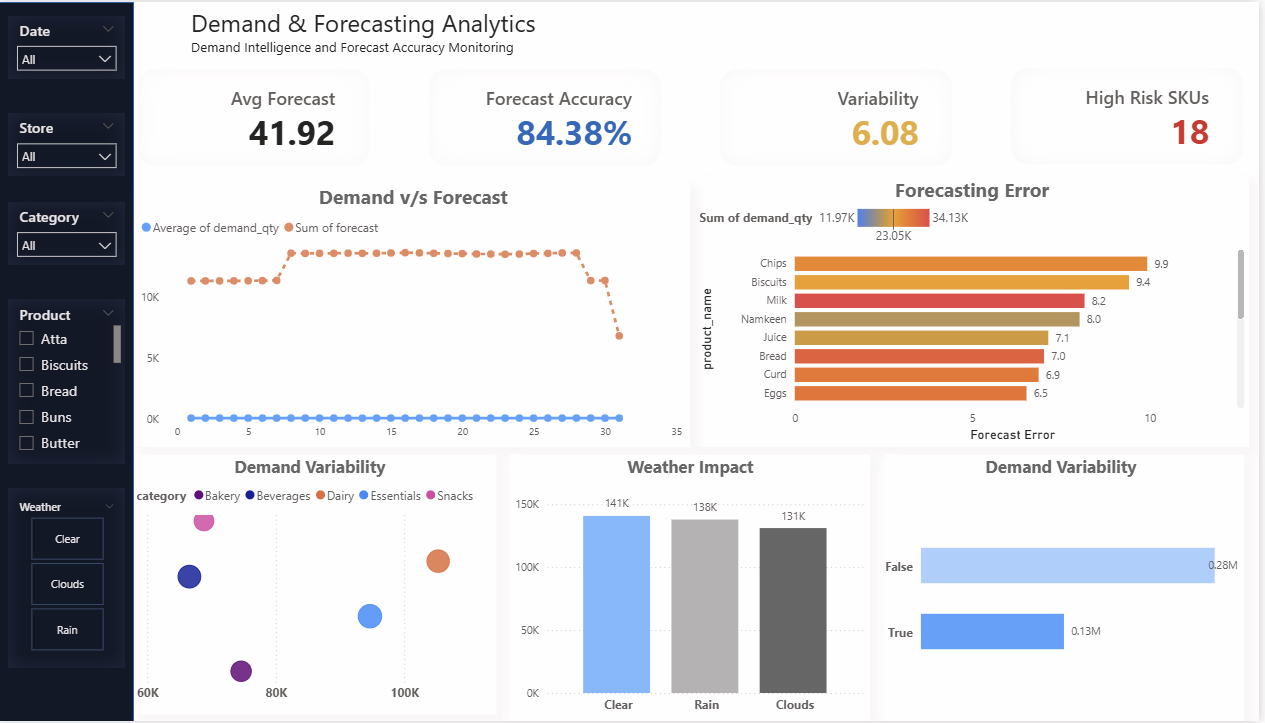

The page's visual inventory and layout, read from the dashboard file:
{"tool":"powerbi","page":{"name":"Demand & forecasting Analysis","canvas":[1440,810],"ordinal":1},"visuals":[{"type":"shape","box":[0,0,180,808.6],"z":0},{"type":"textbox","box":[190,5.7,624.3,72.9],"z":1000,"group":"g1"},{"type":"cardVisual","fields":{"Data":["DAX Measures.Avg Forecast"]},"box":[190,92.9,280,100],"z":1000},{"type":"textbox","box":[192.9,50,532.9,33],"z":2000,"group":"g1"},{"type":"lineChart","title":"Actual vs Forecast Demand","fields":{"Y":["Avg(inventory_data.demand_qty)","Avg(inventory_data.forecast)"],"Category":["inventory_data.date.Variation.Date Hierarchy.Day"]},"box":[192.9,210,720,270],"z":2000},{"type":"clusteredBarChart","title":"Forecasting Error","fields":{"Y":["inventory_data.Forecast Error"],"Category":["inventory_data.product_name"]},"box":[925.7,210,480,270],"z":3000},{"type":"scatterChart","title":"Demand Variability","fields":{"X":["Sum(inventory_data.avg_demand)"],"Y":["Sum(inventory_data.std_demand)"],"Size":["Sum(inventory_data.gap)"],"Series":["inventory_data.category"]},"box":[192.9,491.4,454.3,220],"z":4000},{"type":"clusteredColumnChart","title":"Weather Impact on Demand ","fields":{"Y":["Sum(inventory_data.demand_qty)"],"Category":["inventory_data.weather_type"]},"box":[658.6,491.4,340,220],"z":5000},{"type":"cardVisual","fields":{"Data":["DAX Measures.Forecast Accuracy"]},"box":[501.9,92.9,280,100],"z":6000},{"type":"cardVisual","fields":{"Data":["DAX Measures.Avg Variability"]},"box":[813.8,92.9,280,100],"z":7000},{"type":"cardVisual","fields":{"Data":["DAX Measures.High Risk SKUs"]},"box":[1125.7,92.9,280,100],"z":8000},{"type":"donutChart","title":"Weekend vs Weekday Demand","fields":{"Y":["inventory_data.Weekday Demand","inventory_data.Weekend Demand"]},"box":[1005.7,491.4,400,220],"z":9000},{"type":"slicer","fields":{"Values":["inventory_data.date"]},"box":[861.7,9.5,250,42.2],"z":10000},{"type":"actionButton","box":[1127.2,10.9,119.8,42.2],"z":11000},{"type":"group","id":"g1","title":"Group 1","box":[190,5.7,624.3,77.3],"z":12000},{"type":"textbox","box":[1161.4,575.7,88.6,35.7],"z":13000},{"type":"textbox","box":[1162.1,601.6,88.6,57.1],"z":14000},{"type":"shape","box":[184.3,731.4,1242.9,70],"z":15000},{"type":"shape","box":[674,741.4,11.4,50],"z":16000},{"type":"shape","box":[926.6,741.4,11.4,50],"z":17000},{"type":"shape","box":[1161.4,741.4,11.4,50],"z":18000},{"type":"textbox","box":[242.9,731.4,130,30],"z":19000},{"type":"textbox","box":[492.3,731.4,155.7,30],"z":20000},{"type":"textbox","box":[750.9,731.4,160,30],"z":21000},{"type":"textbox","box":[1000.7,731.4,147.1,30],"z":22000},{"type":"textbox","box":[228.6,751.4,211.4,57.1],"z":23000},{"type":"textbox","box":[482.9,751.4,181.4,52.9],"z":24000},{"type":"textbox","box":[741.4,752.9,201.4,57.1],"z":25000},{"type":"textbox","box":[971.4,751.4,202.9,57.1],"z":26000},{"type":"textbox","box":[1247.1,731.4,125.7,30],"z":27000},{"type":"textbox","box":[1220,751.4,220,57.1],"z":28000},{"type":"shape","box":[421.4,741.4,12.9,50],"z":29000},{"type":"actionButton","box":[13.5,160.4,150,40],"z":30000},{"type":"actionButton","box":[13.5,212.8,150,54.3],"z":31000},{"type":"actionButton","box":[13.5,279.5,150,51.4],"z":32000},{"type":"actionButton","box":[12.9,343.3,150,52.9],"z":33000},{"type":"actionButton","box":[51.4,14.3,64.3,54.3],"z":34000},{"type":"actionButton","box":[27.1,68.6,115.7,30],"z":35000},{"type":"slicer","fields":{"Values":["inventory_data.category"]},"box":[4,506.4,170,58.4],"z":36000},{"type":"slicer","fields":{"Values":["inventory_data.store_id"]},"box":[4,443.8,170,58.4],"z":37000},{"type":"slicer","fields":{"Values":["inventory_data.product_name"]},"box":[4,568.9,170,58.4],"z":38000},{"type":"ChicletSlicer1448559807354","title":"Weather Impact","fields":{"Category":["inventory_data.weather_type"],"Image":["inventory_data.Weather SVG"]},"box":[4,631.4,170,85.7],"z":39000},{"type":"image","box":[210,105.7,45,45],"z":40000},{"type":"image","box":[514.3,105.7,45,45],"z":41000},{"type":"image","box":[825.7,105.7,45.7,44.3],"z":42000},{"type":"image","box":[1148.6,105.7,45,45],"z":43000}]}

Visuals, with their boxes on the page's 1440x810 design canvas (x1, y1, x2, y2). These are canvas units, not pixel positions in the 1265x723 screenshot, which may show the page scaled, cropped or inside an application window:
shape: x1=0 y1=0 x2=180 y2=809
textbox: x1=190 y1=6 x2=814 y2=79
cardVisual - DAX Measures.Avg Forecast: x1=190 y1=93 x2=470 y2=193
textbox: x1=193 y1=50 x2=726 y2=83
"Actual vs Forecast Demand" lineChart: x1=193 y1=210 x2=913 y2=480
"Forecasting Error" clusteredBarChart: x1=926 y1=210 x2=1406 y2=480
"Demand Variability" scatterChart: x1=193 y1=491 x2=647 y2=711
"Weather Impact on Demand " clusteredColumnChart: x1=659 y1=491 x2=999 y2=711
cardVisual - DAX Measures.Forecast Accuracy: x1=502 y1=93 x2=782 y2=193
cardVisual - DAX Measures.Avg Variability: x1=814 y1=93 x2=1094 y2=193
cardVisual - DAX Measures.High Risk SKUs: x1=1126 y1=93 x2=1406 y2=193
"Weekend vs Weekday Demand" donutChart: x1=1006 y1=491 x2=1406 y2=711
slicer - inventory_data.date: x1=862 y1=10 x2=1112 y2=52
actionButton: x1=1127 y1=11 x2=1247 y2=53
"Group 1" group: x1=190 y1=6 x2=814 y2=83
textbox: x1=1161 y1=576 x2=1250 y2=611
textbox: x1=1162 y1=602 x2=1251 y2=659
shape: x1=184 y1=731 x2=1427 y2=801
shape: x1=674 y1=741 x2=685 y2=791
shape: x1=927 y1=741 x2=938 y2=791
shape: x1=1161 y1=741 x2=1173 y2=791
textbox: x1=243 y1=731 x2=373 y2=761
textbox: x1=492 y1=731 x2=648 y2=761
textbox: x1=751 y1=731 x2=911 y2=761
textbox: x1=1001 y1=731 x2=1148 y2=761
textbox: x1=229 y1=751 x2=440 y2=808
textbox: x1=483 y1=751 x2=664 y2=804
textbox: x1=741 y1=753 x2=943 y2=810
textbox: x1=971 y1=751 x2=1174 y2=808
textbox: x1=1247 y1=731 x2=1373 y2=761
textbox: x1=1220 y1=751 x2=1440 y2=808
shape: x1=421 y1=741 x2=434 y2=791
actionButton: x1=14 y1=160 x2=164 y2=200
actionButton: x1=14 y1=213 x2=164 y2=267
actionButton: x1=14 y1=280 x2=164 y2=331
actionButton: x1=13 y1=343 x2=163 y2=396
actionButton: x1=51 y1=14 x2=116 y2=69
actionButton: x1=27 y1=69 x2=143 y2=99
slicer - inventory_data.category: x1=4 y1=506 x2=174 y2=565
slicer - inventory_data.store_id: x1=4 y1=444 x2=174 y2=502
slicer - inventory_data.product_name: x1=4 y1=569 x2=174 y2=627
"Weather Impact" ChicletSlicer1448559807354: x1=4 y1=631 x2=174 y2=717
image: x1=210 y1=106 x2=255 y2=151
image: x1=514 y1=106 x2=559 y2=151
image: x1=826 y1=106 x2=871 y2=150
image: x1=1149 y1=106 x2=1194 y2=151
